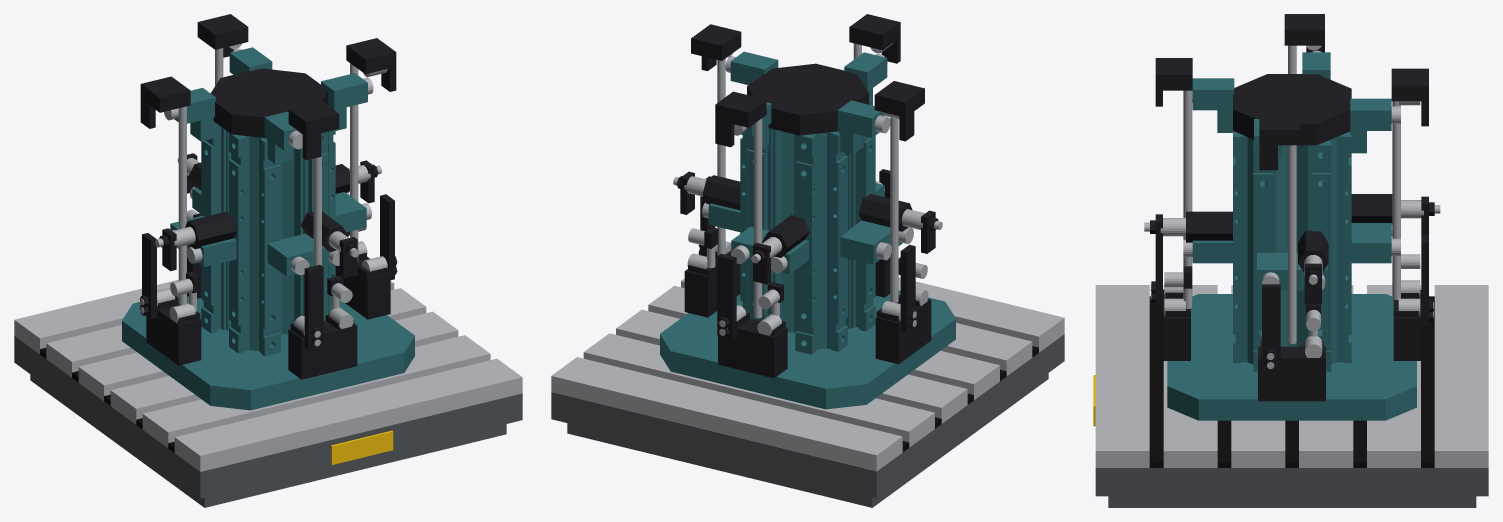
The model's file is pallet_part00_phase20.glb.
3 views of the same model, side by side, from view 1: azimuth 30°, elevation 25°; view 2: azimuth 150°, elevation 25°; view 3: azimuth 270°, elevation 25° (orthographic). The views are drawn at different scales.
Parts seen in each view (by area): view 1: fixture__fx_paint, pallet_body__pb_steel, fixture__fx_oxide, pallet_body__pb_steel_dark, fixture__fx_steel, gripper_jaw_1__fx_oxide, gripper_jaw_7__fx_oxide, gripper_jaw_3__fx_oxide, gripper_jaw_5__fx_oxide, pallet_body__pb_safety_yellow; view 2: fixture__fx_paint, pallet_body__pb_steel, fixture__fx_oxide, pallet_body__pb_steel_dark, fixture__fx_steel, gripper_jaw_5__fx_oxide, gripper_jaw_7__fx_oxide, gripper_jaw_1__fx_oxide, gripper_jaw_3__fx_oxide; view 3: fixture__fx_paint, pallet_body__pb_steel, fixture__fx_oxide, pallet_body__pb_steel_dark, fixture__fx_steel, pallet_body__pb_rubber, gripper_jaw_3__fx_oxide, gripper_jaw_5__fx_oxide, gripper_jaw_7__fx_oxide, gripper_jaw_1__fx_oxide.
Part boxes in pixels (x1,y1,x2,y2): fixture__fx_paint: (122,47,414,410); pallet_body__pb_steel: (14,279,522,471); fixture__fx_oxide: (139,68,397,379); pallet_body__pb_steel_dark: (14,336,522,507); fixture__fx_steel: (140,48,387,346); gripper_jaw_1__fx_oxide: (288,101,339,160); gripper_jaw_7__fx_oxide: (140,76,190,128); gripper_jaw_3__fx_oxide: (346,38,396,91); gripper_jaw_5__fx_oxide: (197,14,248,57); pallet_body__pb_safety_yellow: (331,430,393,464); fixture__fx_paint: (660,51,955,409); pallet_body__pb_steel: (551,277,1064,471); fixture__fx_oxide: (676,63,938,378); pallet_body__pb_steel_dark: (551,334,1064,507); fixture__fx_steel: (673,43,942,335); gripper_jaw_5__fx_oxide: (715,91,766,147); gripper_jaw_7__fx_oxide: (874,81,924,141); gripper_jaw_1__fx_oxide: (849,14,900,63); gripper_jaw_3__fx_oxide: (691,24,741,71); fixture__fx_paint: (1167,52,1416,420); pallet_body__pb_steel: (1095,285,1488,467); fixture__fx_oxide: (1150,74,1434,401); pallet_body__pb_steel_dark: (1095,468,1488,507); fixture__fx_steel: (1144,45,1440,368); pallet_body__pb_rubber: (1149,296,1434,467); gripper_jaw_3__fx_oxide: (1259,113,1299,170); gripper_jaw_5__fx_oxide: (1391,68,1428,126); gripper_jaw_7__fx_oxide: (1284,14,1324,52); gripper_jaw_1__fx_oxide: (1155,58,1192,106).
Size of the model in its own units: 0.63 by 0.6341 by 0.634.
